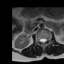CCS_normal: (42, 36, 44, 45)
LFS_normal: (46, 36, 48, 43)
LLS_normal: (44, 36, 46, 44)
RFS_normal: (38, 37, 40, 44)
RLS_normal: (40, 36, 42, 44)
